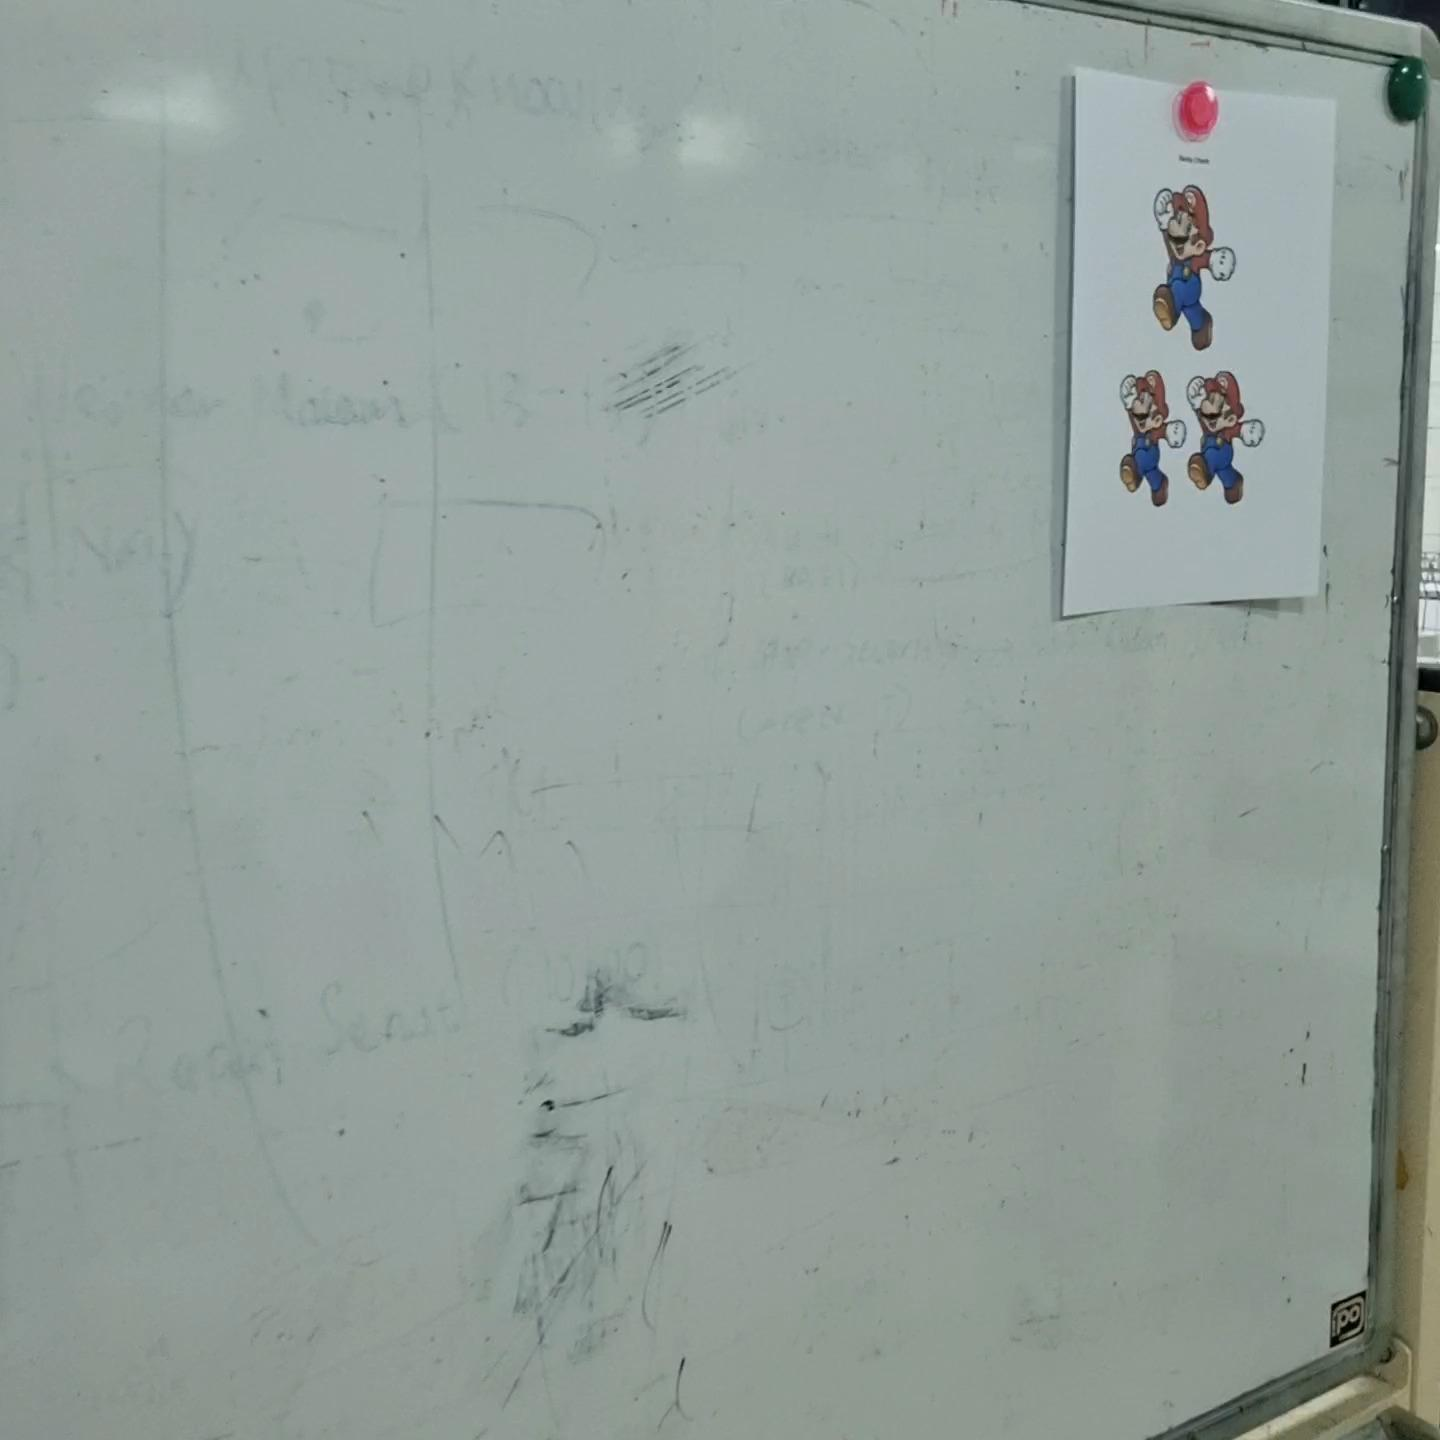mario: (1147, 181, 1240, 353), (1180, 361, 1267, 504), (1110, 364, 1187, 504)
